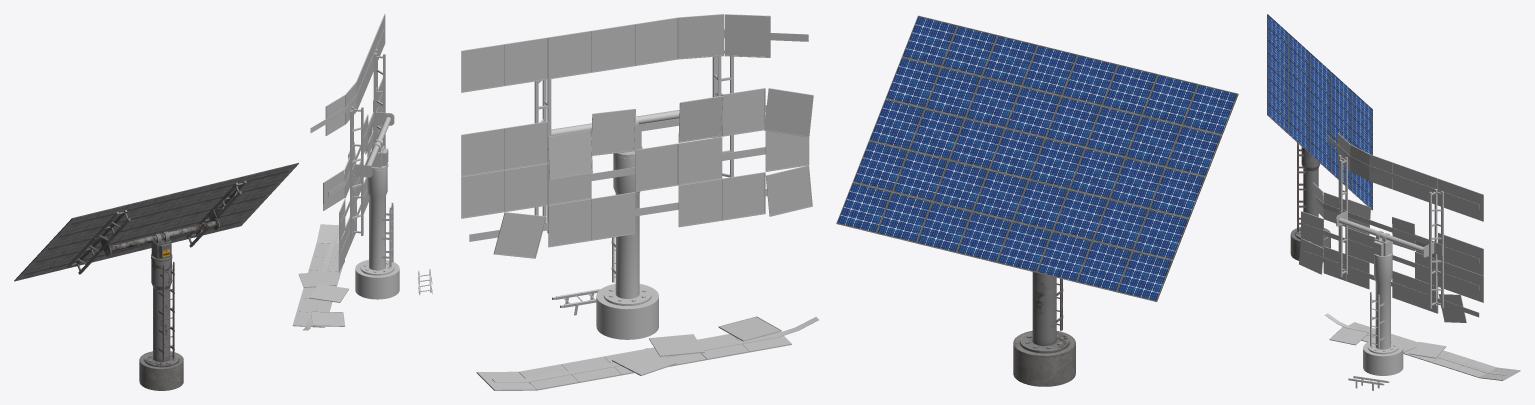
3 renders of one model, left to right at view 1: azimuth 30°, elevation 25°; view 2: azimuth 150°, elevation 25°; view 3: azimuth 270°, elevation 25°, orthographic. The views are drawn at different scales.
Parts seen in each view (by area): view 1: LargeSolarPanelArrayDamaged, SolarPanelArray, FoundationElement, Ladders, Rotator; view 2: SolarPanelArray, LargeSolarPanelArrayDamaged, FoundationElement; view 3: LargeSolarPanelArrayDamaged, SolarPanelArray, FoundationElement, Ladders.
Part boxes in pixels (left/top/right/bottom): LargeSolarPanelArrayDamaged: left=292, top=14, right=432, bottom=330; SolarPanelArray: left=14, top=163, right=298, bottom=281; FoundationElement: left=139, top=259, right=183, bottom=390; Ladders: left=158, top=261, right=174, bottom=361; Rotator: left=151, top=231, right=172, bottom=262; SolarPanelArray: left=836, top=15, right=1238, bottom=301; LargeSolarPanelArrayDamaged: left=461, top=14, right=818, bottom=390; FoundationElement: left=1013, top=272, right=1075, bottom=386; LargeSolarPanelArrayDamaged: left=1299, top=133, right=1520, bottom=390; SolarPanelArray: left=1267, top=14, right=1372, bottom=210; FoundationElement: left=1290, top=147, right=1330, bottom=260; Ladders: left=1297, top=142, right=1305, bottom=231.
Bounding box in the file's own units: 15.13 × 7.55 × 8.47.
